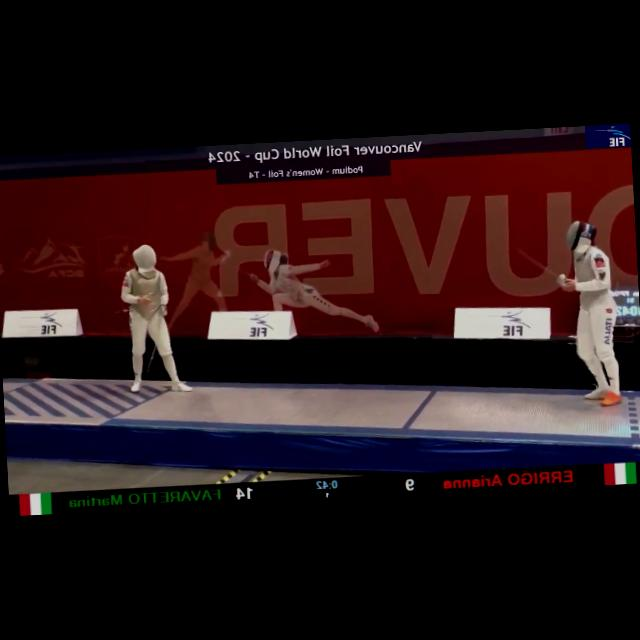blade: (514, 242, 566, 288), (142, 299, 172, 374)
